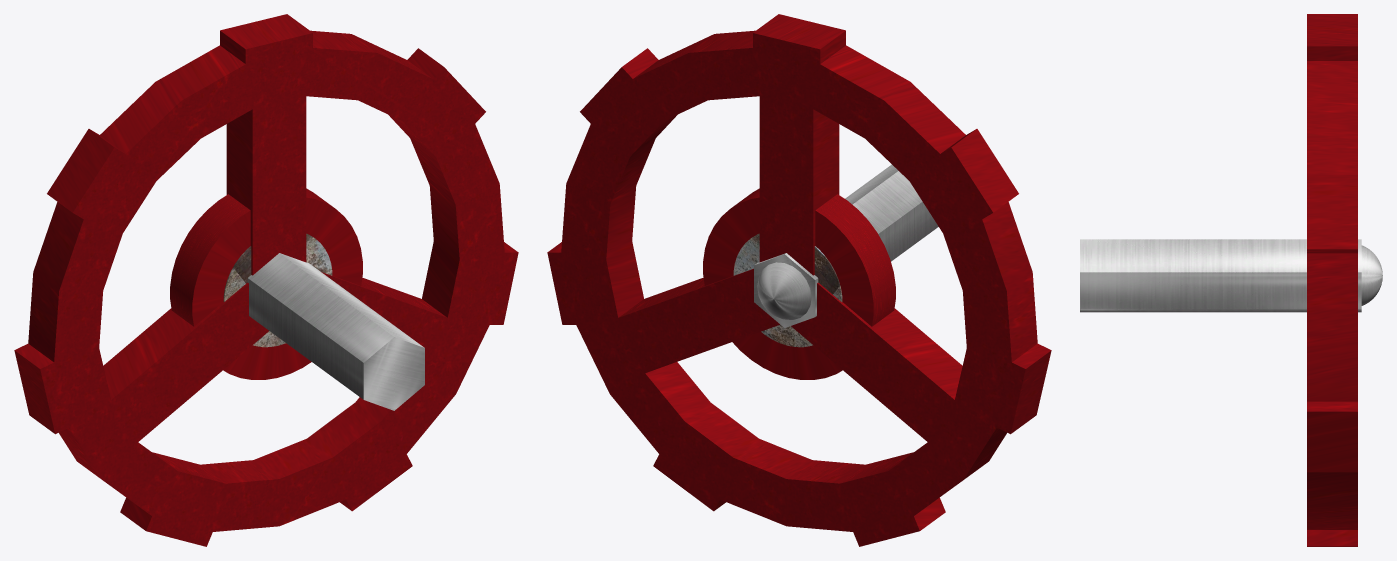
Rendered from ハンドル.fbx.
3 renders of one model, left to right at view 1: azimuth 30°, elevation 25°; view 2: azimuth 150°, elevation 25°; view 3: azimuth 270°, elevation 25°, orthographic.
Parts seen in each view (by area): view 1: obj1, obj2, obj3, obj4; view 2: obj1, obj3, obj2, obj5, obj4; view 3: obj1, obj2, obj5.
Boxes of the visible parts, box(x1,y1,x2,y2) form: obj1: box(14, 14, 518, 546); obj2: box(247, 253, 424, 410); obj3: box(170, 188, 362, 379); obj4: box(223, 233, 332, 347); obj1: box(547, 14, 1051, 546); obj3: box(703, 188, 895, 379); obj2: box(754, 164, 938, 327); obj5: box(757, 262, 811, 319); obj4: box(733, 233, 842, 347); obj1: box(1307, 14, 1357, 546); obj2: box(1080, 239, 1361, 312); obj5: box(1361, 245, 1382, 305).
Size of the model in its own units: 212 by 206 by 118.
3 materials, 3 textured.
